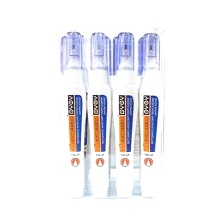correction_fluid: (57, 29, 89, 199), (111, 29, 142, 198), (84, 31, 115, 199), (136, 30, 166, 198)
plastic_box: (54, 22, 170, 203)
